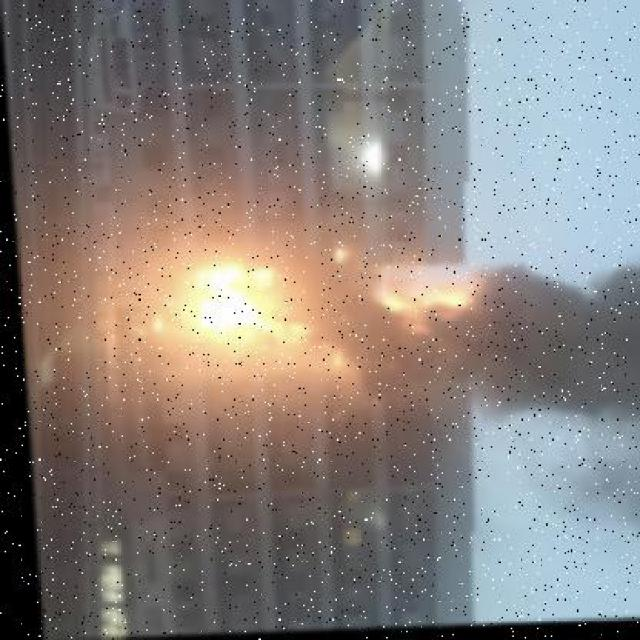fire: (146, 252, 360, 365)
